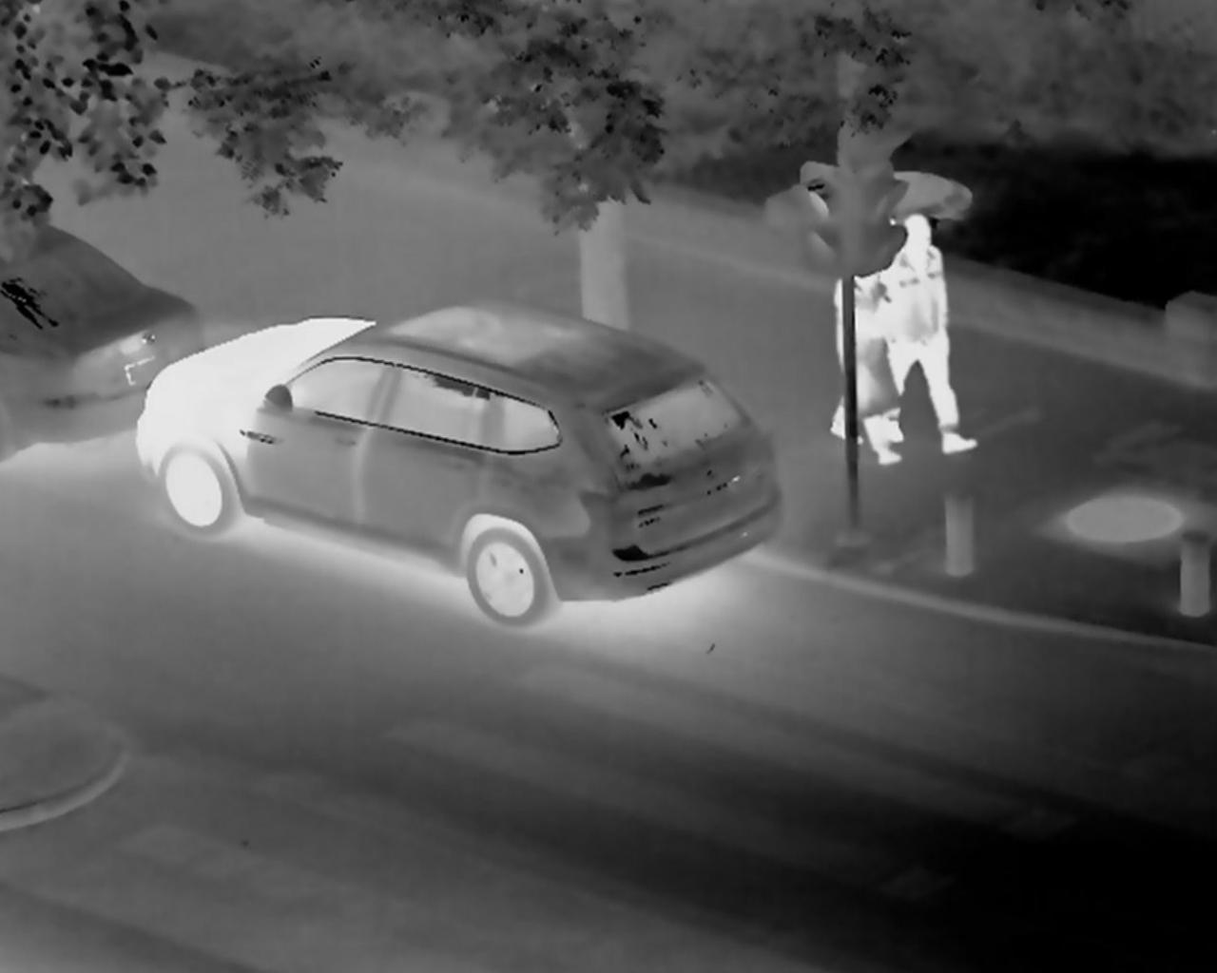person: (894, 216, 969, 475), (834, 259, 887, 420)
